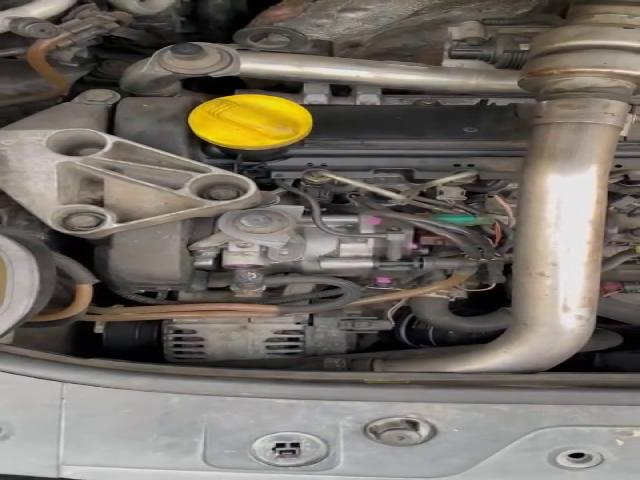alternator: (162, 301, 387, 362)
high_pressure_pump: (218, 210, 432, 287)
